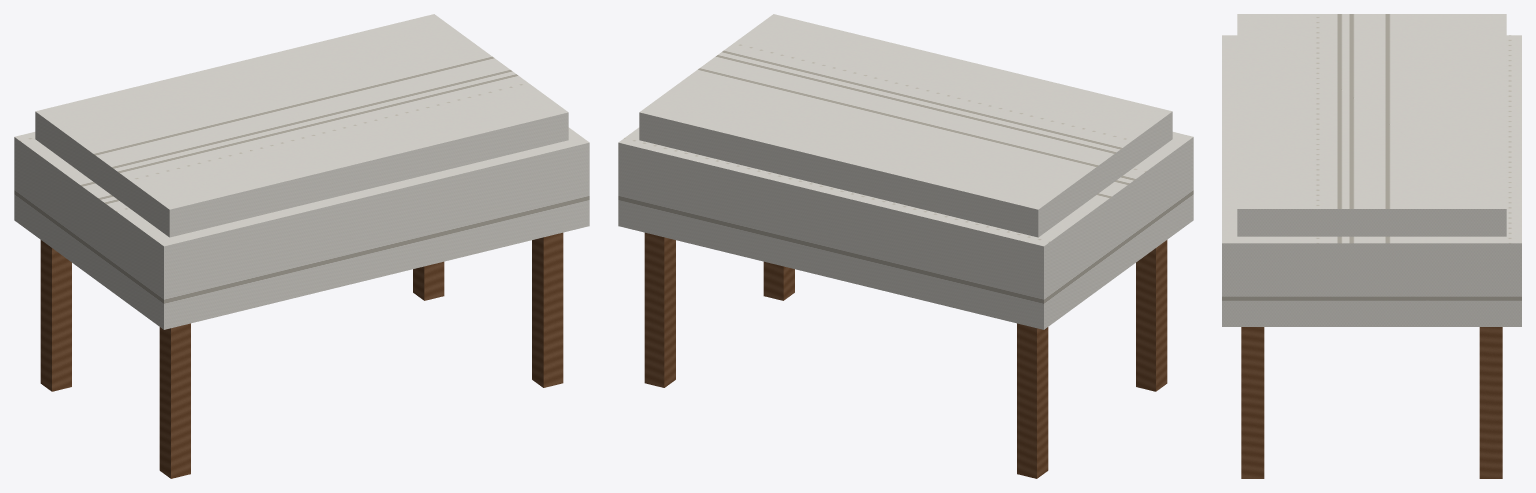
Rendered from mesa_ofrenda.obj.
3 renders of one model, left to right at view 1: azimuth 30°, elevation 25°; view 2: azimuth 150°, elevation 25°; view 3: azimuth 270°, elevation 25°, orthographic.
Parts seen in each view (by area): view 1: mesa_ofrenda; view 2: mesa_ofrenda; view 3: mesa_ofrenda.
Boxes of the visible parts, x1=… form: mesa_ofrenda: x1=14, y1=14, x2=589, y2=478; mesa_ofrenda: x1=618, y1=14, x2=1193, y2=478; mesa_ofrenda: x1=1222, y1=14, x2=1521, y2=478.
Size of the model in its own units: 1.28 by 0.78 by 0.78.
Materials: 2 (2 with a texture image).
